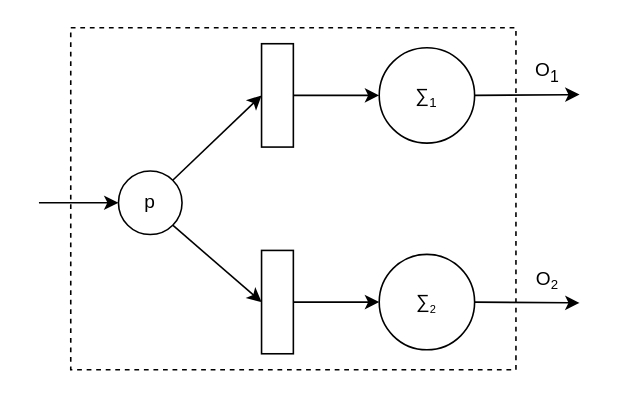
This 623x398 diagram has some shape labels left out. The shapes that lost their labels are listed below. From the top down, each one's centre as x and y in pixels, then its label:
At (276,94): "t 1".
At (276,301): "t 2".
